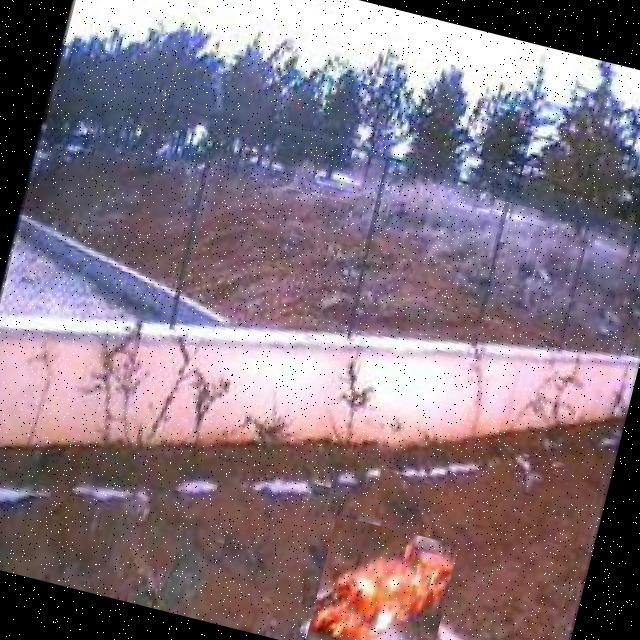fire: (303, 515, 458, 640)
